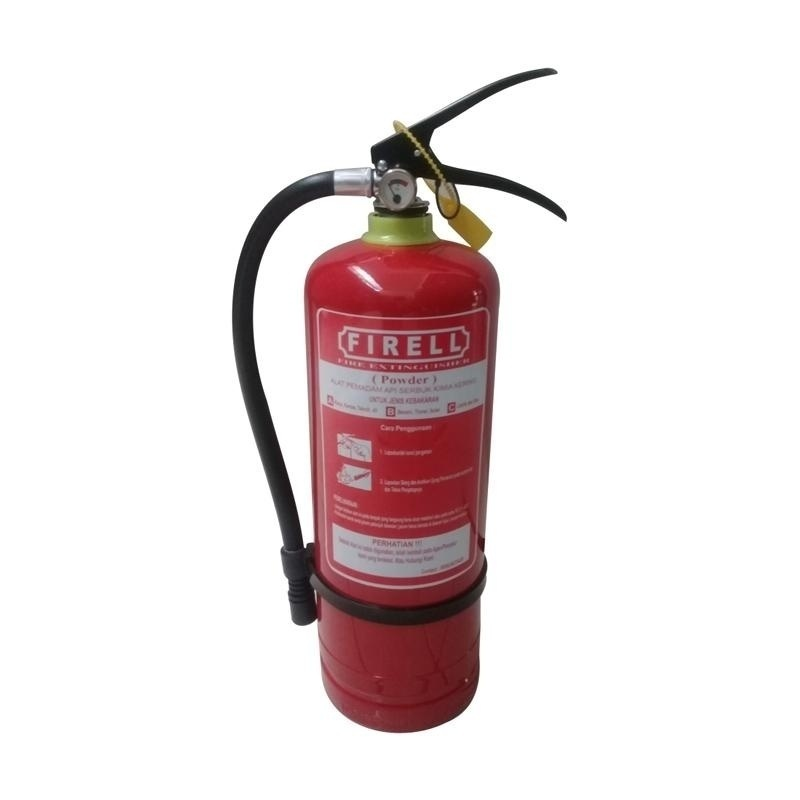fire_extinguisher: (231, 66, 568, 734)
